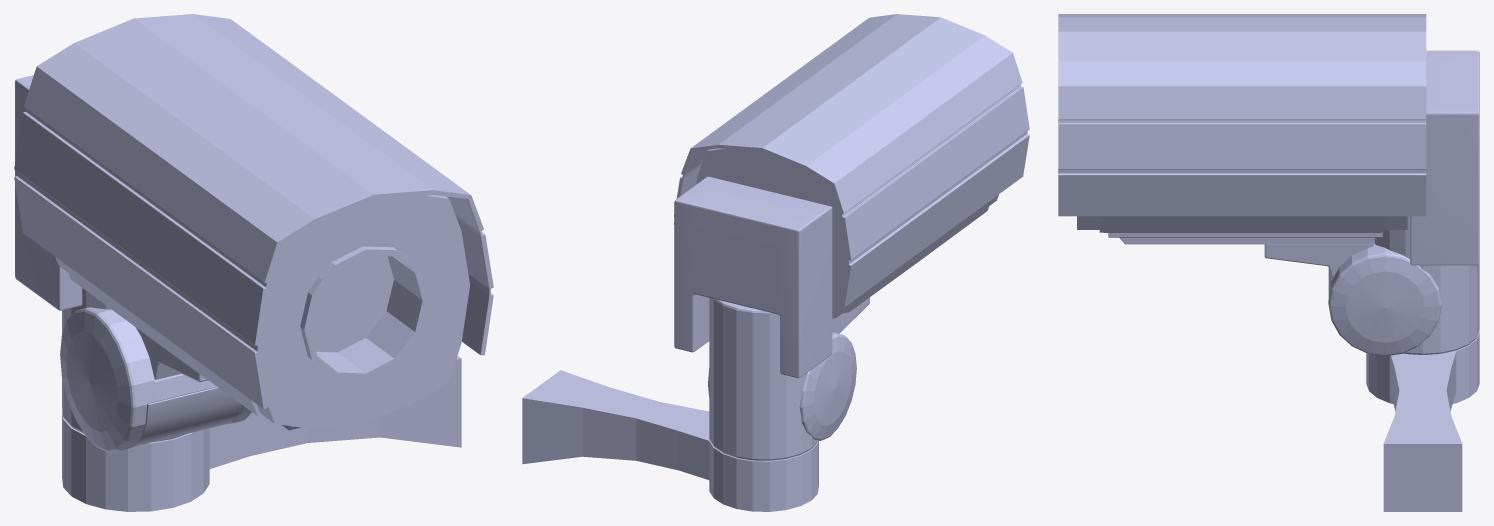
The model's file is camera_mesh_WIP.fbx.
The picture shows the model from 3 angles, left to right: view 1: azimuth 30°, elevation 25°; view 2: azimuth 150°, elevation 25°; view 3: azimuth 270°, elevation 25°; orthographic projection. The views are drawn at different scales.
Parts seen in each view (by area): view 1: pCylinder63, pCylinder56, pCylinder60, pCylinder59, pCube146, pCylinder64, pCylinder58, pCube145, pCylinder61; view 2: pCylinder63, pCube146, pCylinder60, pCylinder61, pCylinder56, pCylinder59, pCylinder58; view 3: pCylinder63, pCylinder60, pCube146, pCylinder59, pCylinder58, pCylinder61, pCube144, pCube145, pCylinder56.
Part boxes in pixels (box(x1,y1,x2,y2)): pCylinder63: box(14, 14, 493, 408); pCylinder56: box(55, 195, 469, 428); pCylinder60: box(62, 356, 461, 511); pCylinder59: box(60, 307, 251, 452); pCube146: box(15, 75, 82, 310); pCylinder64: box(133, 387, 241, 446); pCylinder58: box(65, 264, 265, 417); pCube145: box(136, 327, 207, 382); pCylinder61: box(62, 288, 186, 441); pCylinder63: box(674, 14, 1029, 307); pCube146: box(674, 176, 832, 378); pCylinder60: box(522, 370, 818, 511); pCylinder61: box(709, 297, 817, 460); pCylinder56: box(696, 148, 998, 318); pCylinder59: box(708, 332, 856, 440); pCylinder58: box(843, 199, 991, 313); pCylinder63: box(1058, 14, 1426, 216); pCylinder60: box(1366, 331, 1479, 511); pCube146: box(1410, 50, 1479, 265); pCylinder59: box(1328, 244, 1441, 356); pCylinder58: box(1099, 216, 1384, 232); pCylinder61: box(1374, 216, 1479, 354); pCube144: box(1108, 232, 1382, 244); pCube145: box(1264, 244, 1373, 278); pCylinder56: box(1077, 216, 1407, 229).
Size of the model in its own units: 3.63 by 3.98 by 4.13.
